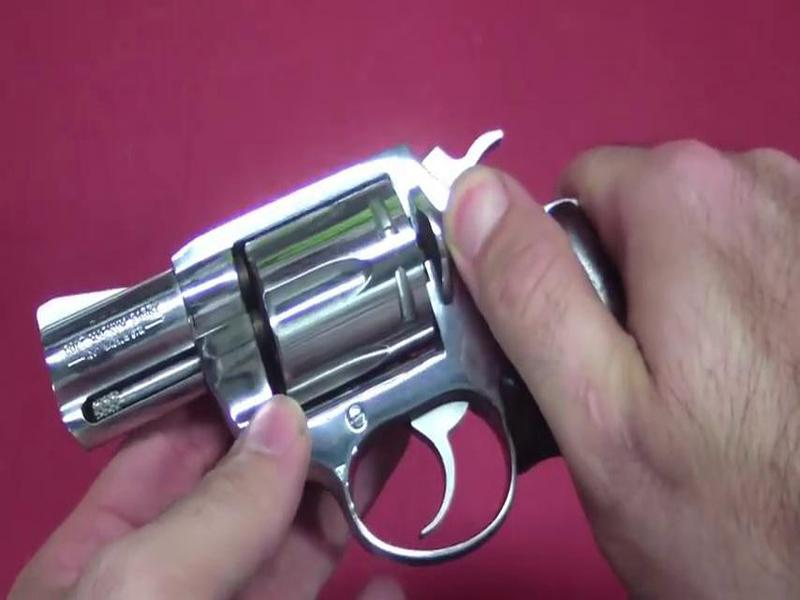Revolver: (69, 120, 631, 531)
